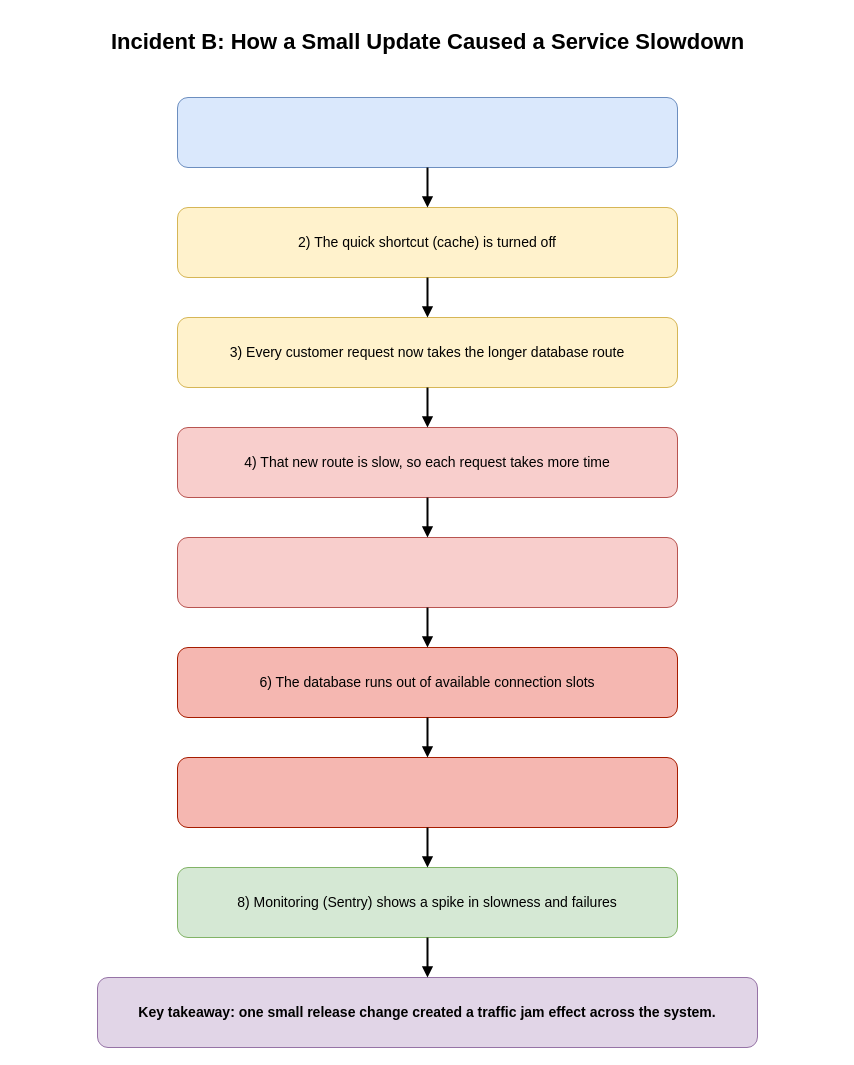
The diagram is 854 pixels wide and 1065 high, and some of its shapes have lost their labels. Each missing label, with the centre of its shape:
1) A software update is released: the point at 427,132
5) Requests pile up and start waiting in line: the point at 427,572
7) Customers see slow screens, timeouts, and some errors: the point at 427,792
